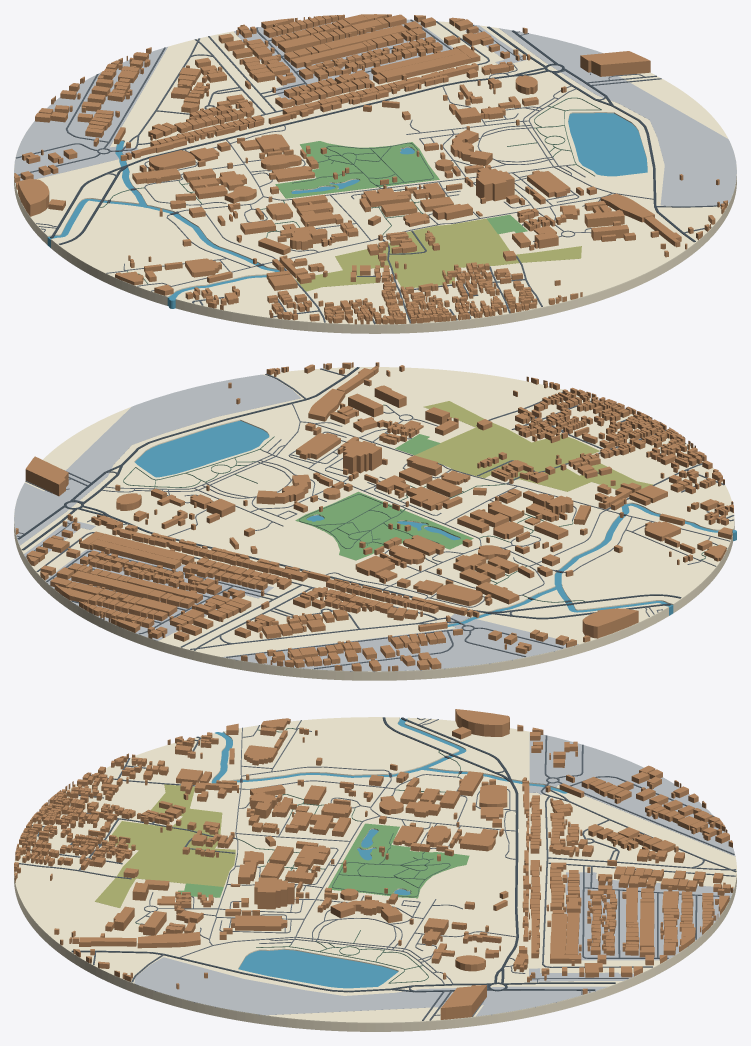
Rendered from 3d maps.glb.
3 views of the same model, one above another, from view 1: azimuth 30°, elevation 25°; view 2: azimuth 150°, elevation 25°; view 3: azimuth 270°, elevation 25° (orthographic).
Visible parts, largest first — view 1: mesh_23, mesh_4, Jalan, mesh_11, mesh_3, mesh_7, mesh_8, mesh_2, mesh_5, mesh_17, mesh_18, mesh_13 (+2 smaller); view 2: mesh_23, mesh_4, Jalan, mesh_11, mesh_3, mesh_7, mesh_2, mesh_8, mesh_5, mesh_17, mesh_18, mesh_13 (+2 smaller); view 3: mesh_4, mesh_23, Jalan, mesh_11, mesh_3, mesh_7, mesh_2, mesh_8, mesh_5, mesh_17, mesh_10, mesh_18 (+2 smaller).
Part boxes in pixels (x1,y1,x2,y2): mesh_23: (14, 14, 727, 324); mesh_4: (14, 21, 736, 325); Jalan: (16, 19, 720, 324); mesh_11: (499, 28, 736, 206); mesh_3: (51, 200, 274, 297); mesh_7: (295, 218, 581, 291); mesh_8: (14, 47, 167, 184); mesh_2: (14, 113, 736, 333); mesh_5: (275, 141, 439, 198); mesh_17: (568, 113, 647, 176); mesh_18: (50, 26, 695, 244); mesh_13: (47, 141, 279, 308); mesh_23: (15, 362, 733, 671); mesh_4: (14, 367, 734, 672); Jalan: (16, 368, 734, 669); mesh_11: (14, 374, 300, 545); mesh_3: (561, 505, 732, 610); mesh_7: (415, 401, 652, 491); mesh_2: (14, 420, 734, 680); mesh_8: (222, 619, 578, 672); mesh_5: (295, 491, 473, 560); mesh_17: (135, 420, 269, 477); mesh_18: (17, 367, 681, 619); mesh_13: (447, 503, 736, 626); mesh_4: (14, 717, 736, 1023); mesh_23: (14, 709, 733, 1019); Jalan: (19, 717, 736, 1020); mesh_11: (134, 957, 607, 1016); mesh_3: (219, 717, 459, 781); mesh_7: (95, 784, 235, 907); mesh_2: (14, 725, 736, 1031); mesh_8: (529, 733, 735, 856); mesh_5: (328, 823, 469, 898); mesh_17: (238, 949, 398, 988); mesh_10: (565, 872, 733, 960); mesh_18: (71, 717, 615, 992).
Bounding box in the file's own units: 155 × 6.24 × 155.
